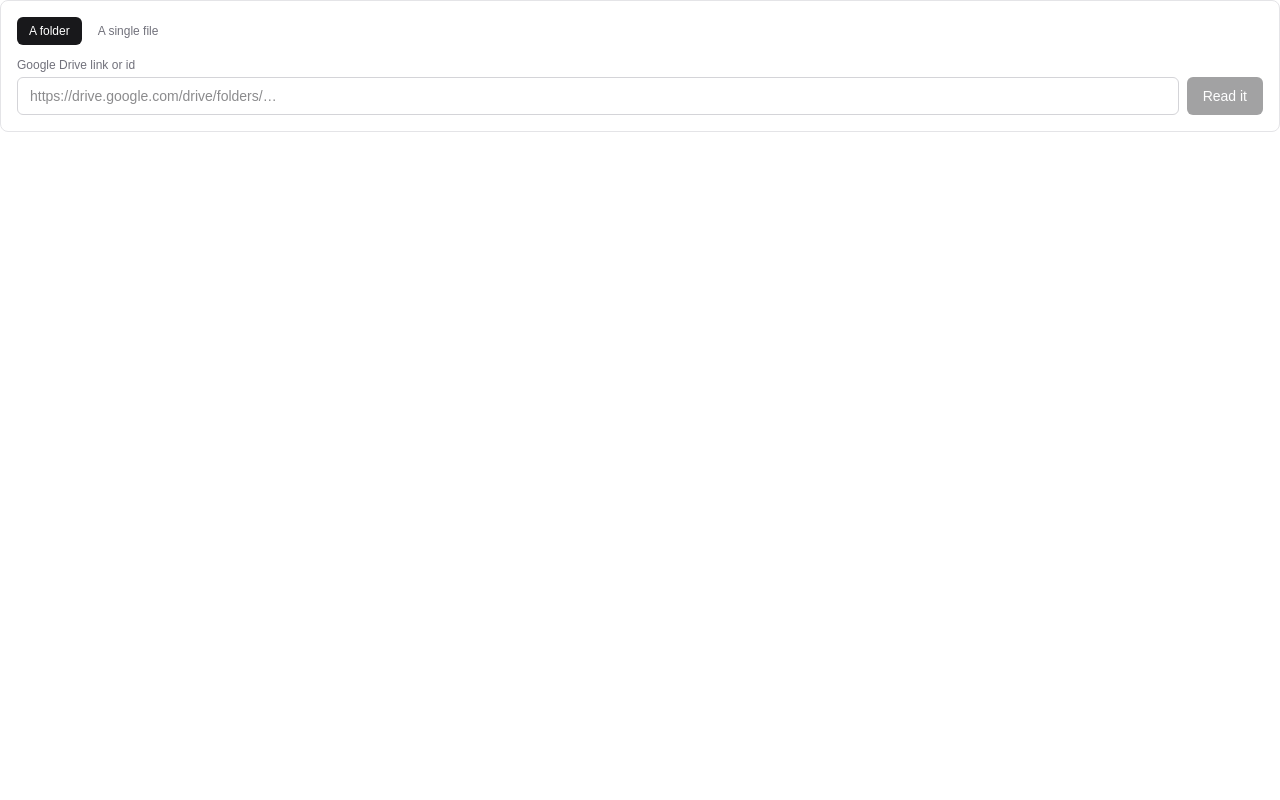
Test case: ImportPlanner — the hierarchy, stated out loud › spells out grade > year > quarter > unit rather than leaving her to infer it
This screenshot has width=1280, height=800.
Type "https://drive.google.com/drive/folders/abc123" into the field labelled "Google Drive link or id".
click(598, 96); type("https://drive.google.com/drive/folders/abc123")  # box 17,77 -> 1179,115
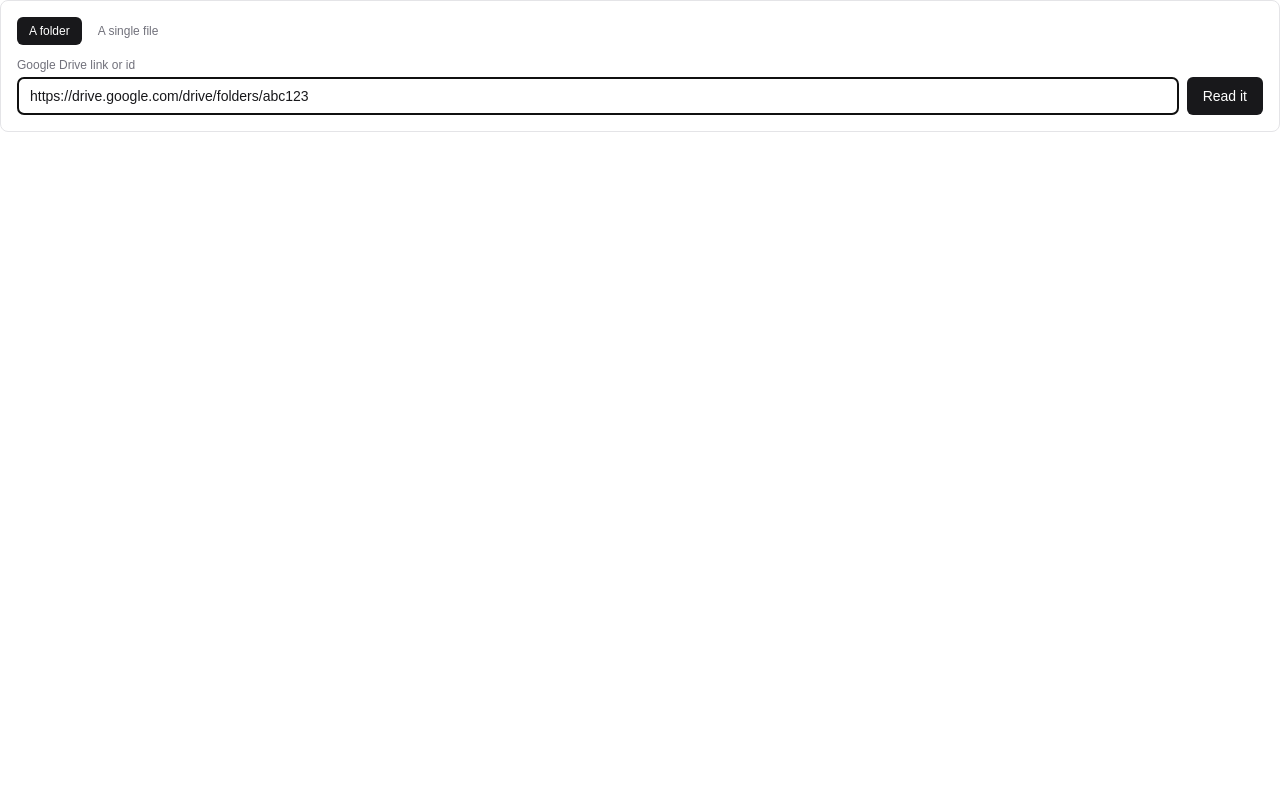
Click the button "Read it".
click(1225, 96)  # box 1187,77 -> 1263,115
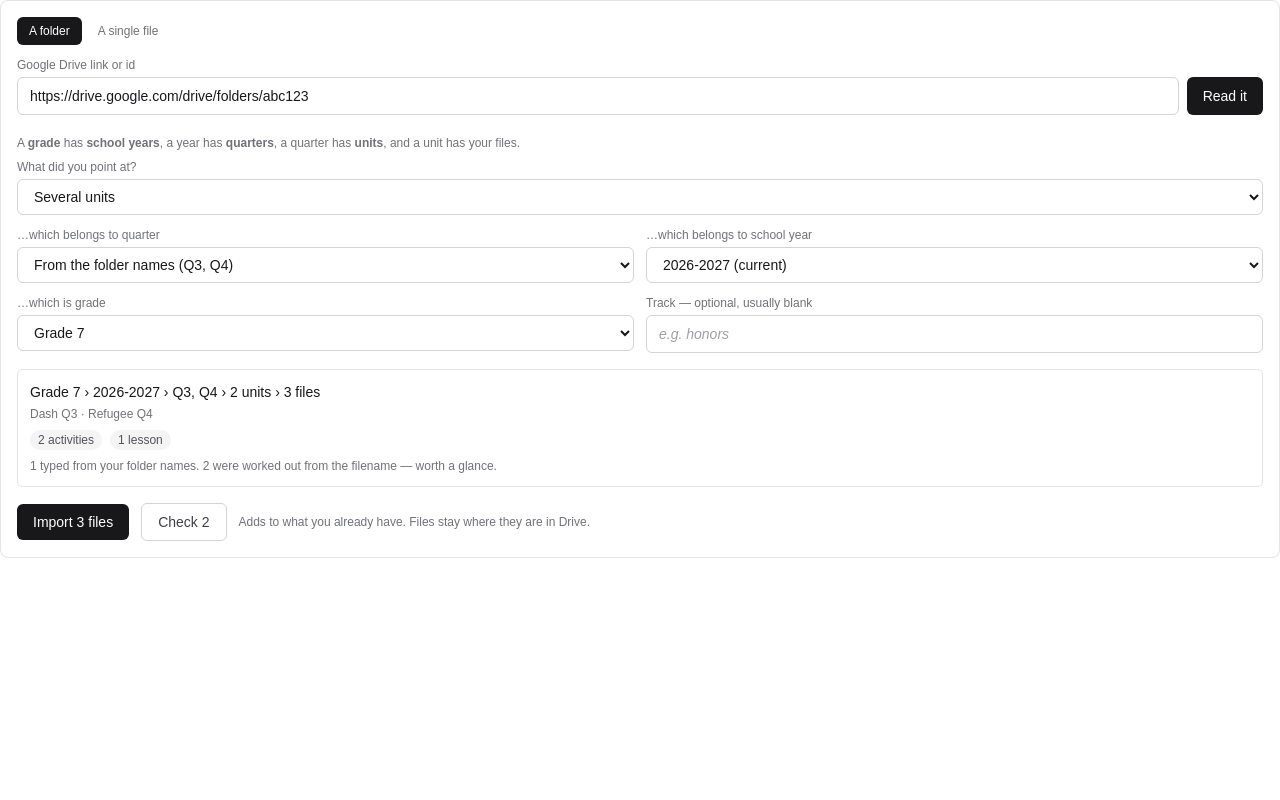
expect the dropdown labelled "What did you point at?" is shown: met, box 17,179 -> 1263,215
